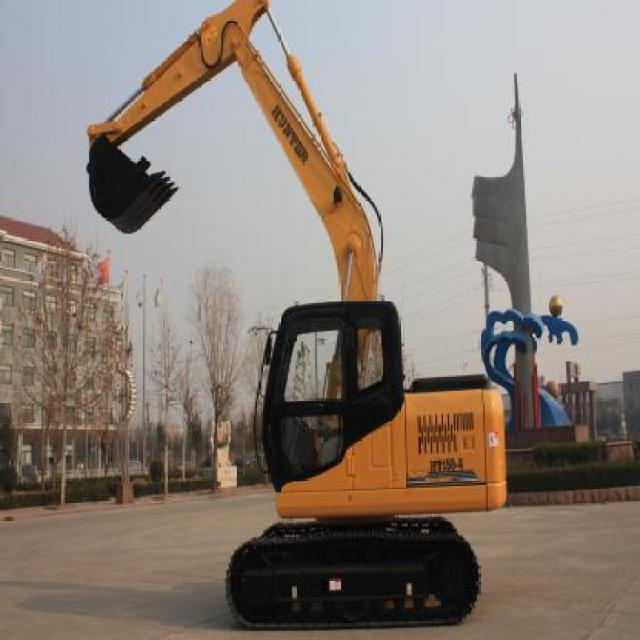Excavator: (85, 0, 512, 634)
